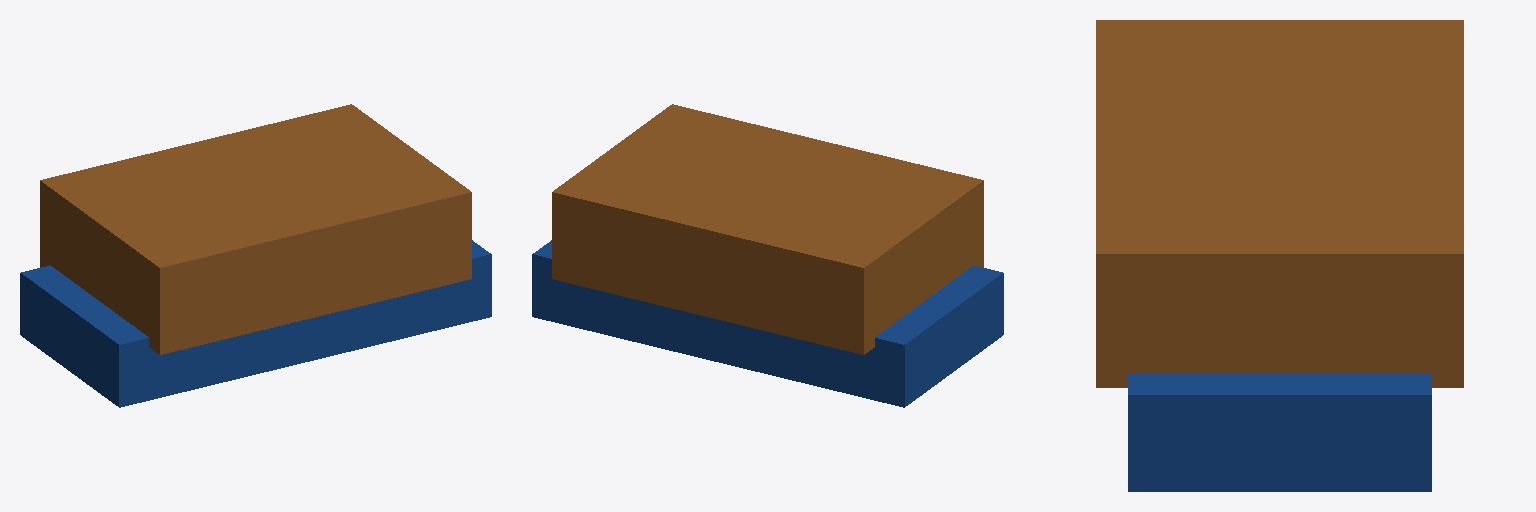
The robot description file, URDF, robot "iwhub":
<?xml version="1.0"?>
<!-- iw.hub 적재 상태 시각/충돌 모델 — RViz RobotModel 로 실제 크기를 보이게 한다.
     치수 실측(2026-07-21, Isaac USD bbox, measure_deck.py):
       · 몸체 1.431 × 0.659 × 0.231 m
       · 데크 적재(팔레트+KLT+토마토) 1.2 × 0.8 × 0.32 m, 데크 상단 z=0.195 위
     ⚠ Nav2 costmap 은 이 URDF 에서 footprint 를 자동으로 읽지 않는다 —
        footprint 는 nav2_params.yaml 에 별도로 준다(1.5×0.84 사각형).
     ⚠ laser_front/back 프레임은 Isaac(ros/robot_bridge) 이 chassis 밑으로 내므로
        여기 넣지 않는다(한 프레임에 부모 둘이면 TF 충돌). -->
<robot name="iwhub">

  <!-- 로봇 몸체. base_link = 바닥투영 중심(odom→base_link 가 여기로 옴). -->
  <link name="base_link">
    <visual>
      <origin xyz="0 0 0.1155" rpy="0 0 0"/>
      <geometry><box size="1.431 0.659 0.231"/></geometry>
      <material name="iw_body"><color rgba="0.15 0.35 0.60 0.50"/></material>
    </visual>
    <collision>
      <origin xyz="0 0 0.1155" rpy="0 0 0"/>
      <geometry><box size="1.431 0.659 0.231"/></geometry>
    </collision>
  </link>

  <!-- 데크 적재물(팔레트+KLT+토마토) — 실제 로봇이 얼마나 넓은지(폭 0.8) 보이게. -->
  <link name="deck_cargo">
    <visual>
      <origin xyz="0 0 0.16" rpy="0 0 0"/>
      <geometry><box size="1.2 0.8 0.32"/></geometry>
      <material name="cargo"><color rgba="0.60 0.40 0.20 0.50"/></material>
    </visual>
  </link>
  <joint name="deck_cargo_joint" type="fixed">
    <parent link="base_link"/>
    <child link="deck_cargo"/>
    <origin xyz="0 0 0.195" rpy="0 0 0"/>
  </joint>

</robot>

--- Render facts (derived) ---
3 views of the same robot in one strip: view 1: azimuth 30°, elevation 25°; view 2: azimuth 150°, elevation 25°; view 3: azimuth 270°, elevation 25° (orthographic).
Model iwhub with 2 links and 1 joints (1 fixed), rooted at base_link, posed every joint at zero.
Visible links, largest first — view 1: deck_cargo, base_link; view 2: deck_cargo, base_link; view 3: deck_cargo, base_link.
Boxes of the visible links, x1,y1,x2,y2 form: deck_cargo: [40, 104, 471, 354]; base_link: [20, 240, 491, 407]; deck_cargo: [552, 104, 983, 354]; base_link: [532, 240, 1003, 407]; deck_cargo: [1096, 20, 1463, 387]; base_link: [1128, 373, 1431, 491].
Bounding box of the posed robot: 1.43 × 0.8 × 0.515 m (x, y, z).
Geometry: primitives only (box / cylinder / sphere), no mesh files.
